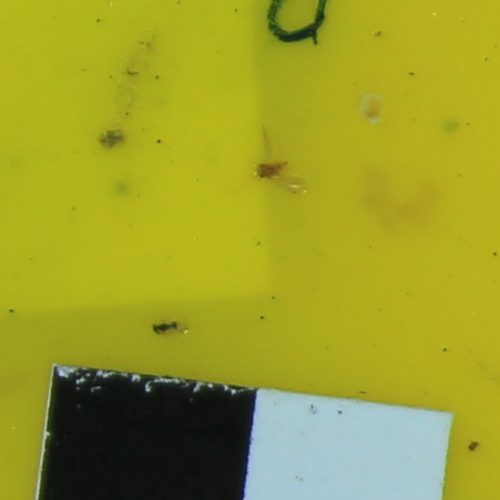Platyobria: (255, 156, 293, 181)
